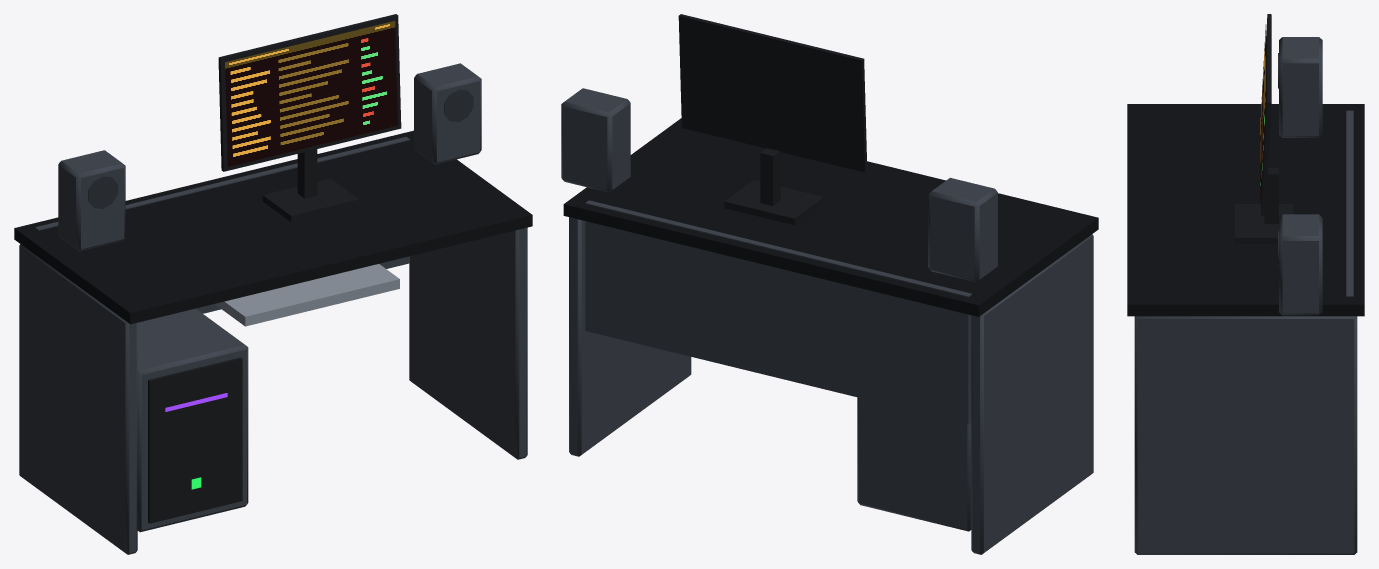
File: desk_computer_desk.glb
3 views of the same model, side by side, from view 1: azimuth 30°, elevation 25°; view 2: azimuth 150°, elevation 25°; view 3: azimuth 270°, elevation 25° (orthographic). The views are drawn at different scales.
Parts seen in each view (by area): view 1: desk_computer_desk; view 2: desk_computer_desk; view 3: desk_computer_desk.
Part boxes in pixels (left/top/right/bottom): desk_computer_desk: left=14, top=14, right=532, bottom=554; desk_computer_desk: left=561, top=14, right=1098, bottom=554; desk_computer_desk: left=1127, top=14, right=1364, bottom=554.
Bounding box in the file's own units: 1.38 × 1.27 × 0.65.
Materials: 10 (1 with a texture image).
